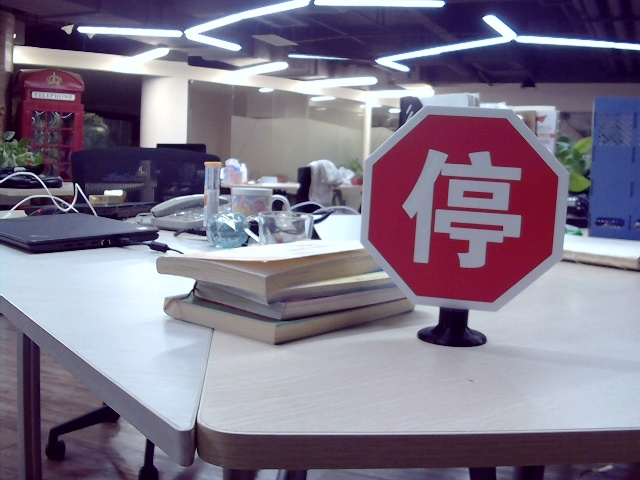stop: (405, 140, 521, 271)
